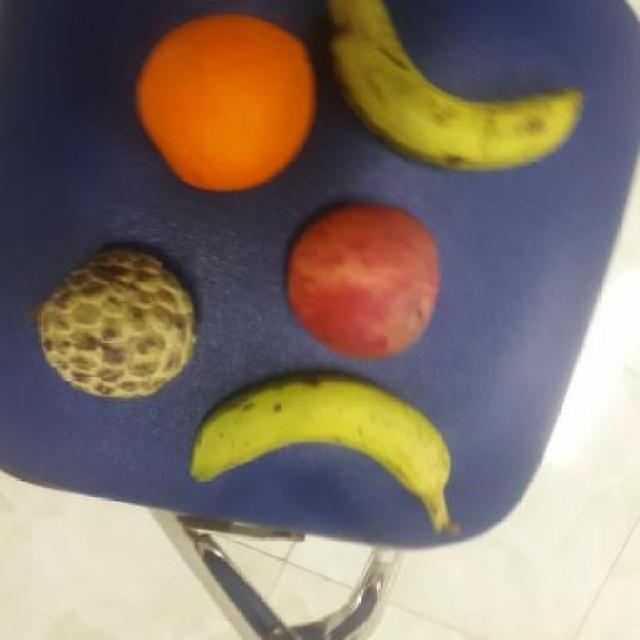apple: (286, 199, 448, 366)
banana: (321, 1, 590, 181), (187, 373, 458, 532)
oren: (132, 12, 320, 192)
sugar apple: (30, 243, 201, 405)
